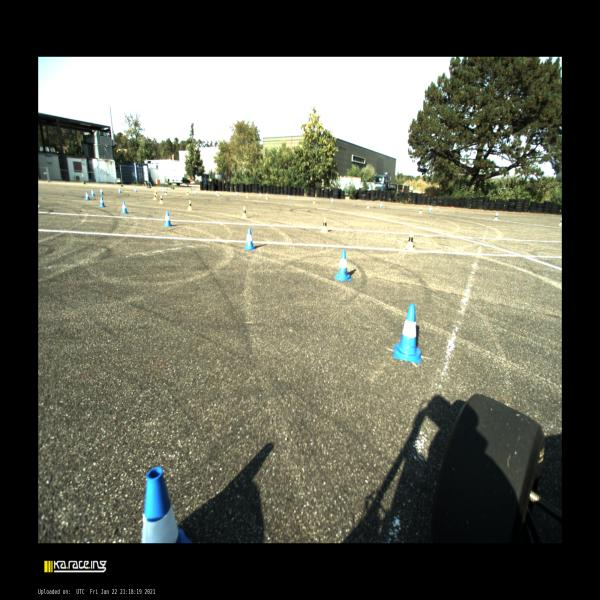blue_cone: (141, 468, 191, 544), (393, 304, 421, 364), (334, 250, 352, 281), (244, 228, 255, 250), (164, 211, 172, 226), (120, 201, 128, 213), (99, 196, 105, 207), (85, 191, 90, 200), (91, 189, 95, 196), (100, 188, 104, 194), (380, 202, 383, 208), (429, 206, 432, 212), (134, 187, 137, 192), (119, 187, 121, 193), (195, 189, 197, 194), (331, 198, 333, 203), (288, 195, 290, 199), (236, 192, 238, 195), (163, 188, 164, 193), (260, 193, 261, 197)
yellow_cone: (406, 232, 415, 250), (319, 218, 329, 232), (240, 206, 247, 219), (188, 200, 192, 211), (159, 196, 164, 204), (558, 218, 562, 226), (153, 193, 157, 200), (494, 214, 498, 221), (186, 190, 189, 195), (419, 208, 422, 213), (246, 194, 249, 198), (266, 194, 268, 200), (313, 198, 315, 204), (367, 203, 369, 208), (217, 192, 219, 196), (165, 191, 167, 195)
